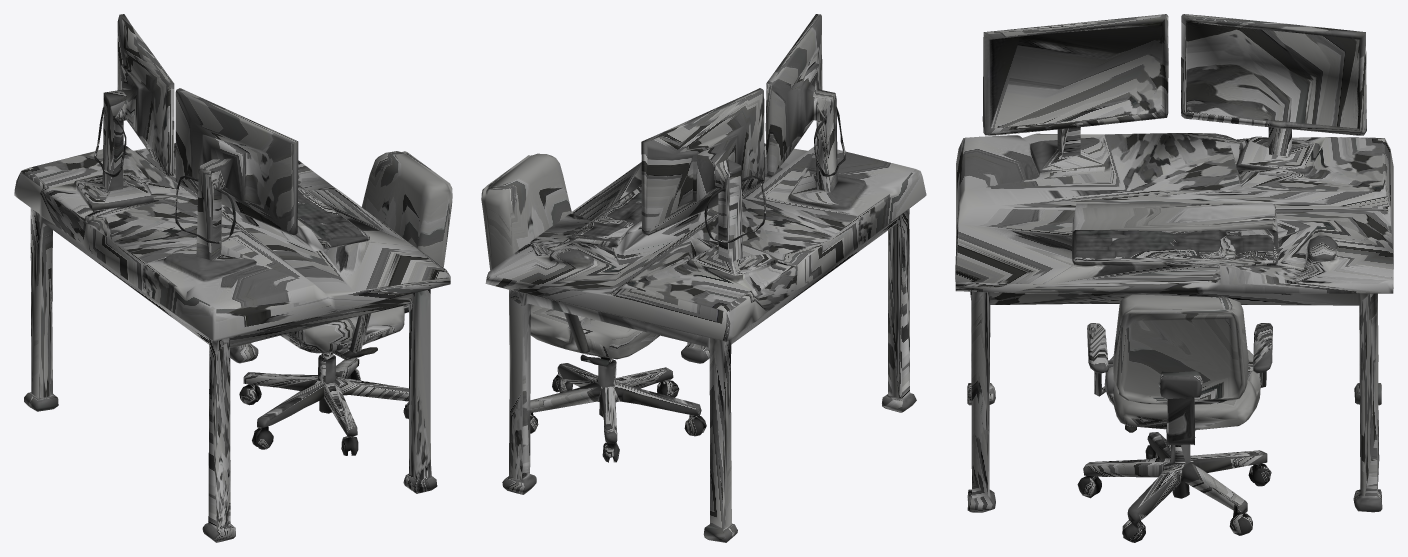
File: gov_workstation.glb
3 views of the same model, side by side, from view 1: azimuth 30°, elevation 25°; view 2: azimuth 150°, elevation 25°; view 3: azimuth 270°, elevation 25° (orthographic). The views are drawn at different scales.
Visible parts, largest first — view 1: tripo_node_2503c02d-896a-462a-83f8-96ee0460ded5; view 2: tripo_node_2503c02d-896a-462a-83f8-96ee0460ded5; view 3: tripo_node_2503c02d-896a-462a-83f8-96ee0460ded5.
Part boxes in pixels (left/top/right/bottom): tripo_node_2503c02d-896a-462a-83f8-96ee0460ded5: left=14, top=14, right=452, bottom=542; tripo_node_2503c02d-896a-462a-83f8-96ee0460ded5: left=481, top=14, right=926, bottom=542; tripo_node_2503c02d-896a-462a-83f8-96ee0460ded5: left=955, top=14, right=1393, bottom=542.
Size of the model in its own units: 0.8964 by 0.9994 by 0.9687.
Materials: 1 (1 with a texture image).
